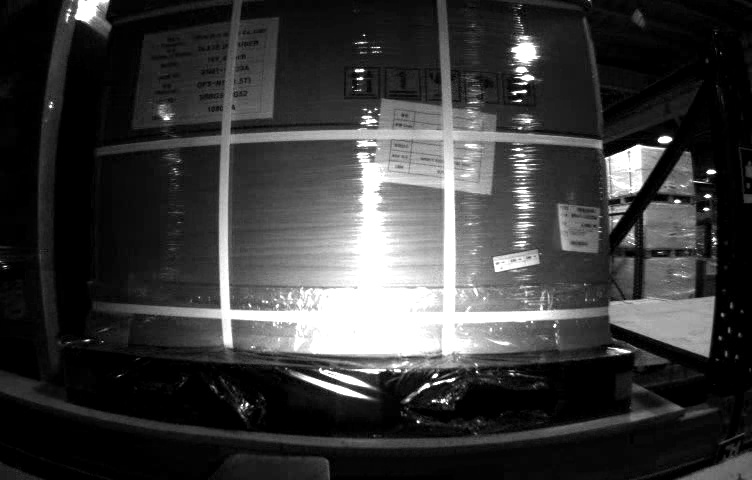True Barcode: (555, 202, 598, 253)
